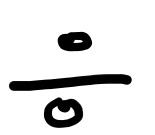div: (10, 31, 131, 128)
